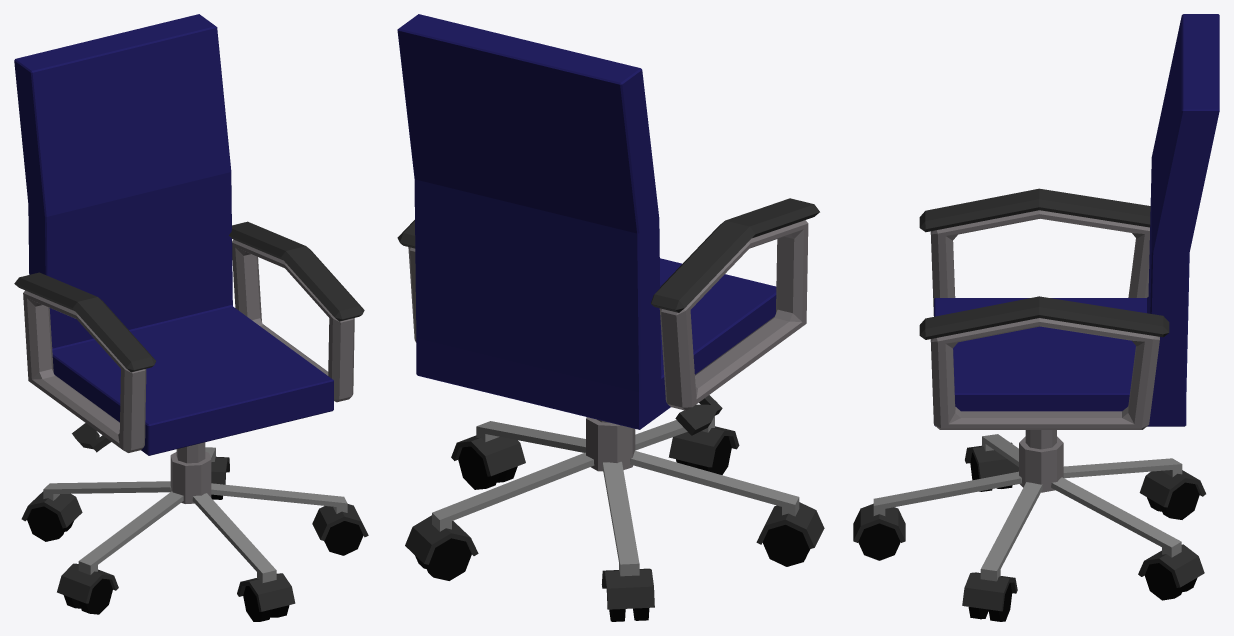
The model's file is OfficeChair.glb.
3 views of the same model, side by side, from view 1: azimuth 30°, elevation 25°; view 2: azimuth 150°, elevation 25°; view 3: azimuth 270°, elevation 25° (orthographic). The views are drawn at different scales.
Parts seen in each view (by area): view 1: Cube.003, Plane.003, Cube.006, Cube.007, Cylinder, Cube.004; view 2: Cube.003, Plane.003, Cube.006, Cube.007, Cylinder, Cube.004; view 3: Cube.003, Plane.003, Cube.006, Cube.007, Cylinder.
Part boxes in pixels (left/top/right/bottom): Cube.003: left=14, top=14, right=333, bottom=455; Plane.003: left=21, top=447, right=368, bottom=621; Cube.006: left=23, top=239, right=354, bottom=452; Cube.007: left=14, top=221, right=364, bottom=372; Cylinder: left=170, top=442, right=211, bottom=503; Cube.004: left=72, top=423, right=111, bottom=452; Cube.003: left=397, top=14, right=776, bottom=429; Plane.003: left=405, top=416, right=824, bottom=621; Cube.006: left=408, top=220, right=808, bottom=410; Cube.007: left=397, top=198, right=819, bottom=312; Cylinder: left=586, top=417, right=635, bottom=471; Cube.004: left=675, top=395, right=722, bottom=435; Cube.003: left=934, top=14, right=1219, bottom=426; Plane.003: left=853, top=434, right=1205, bottom=621; Cube.006: left=930, top=210, right=1159, bottom=429; Cube.007: left=919, top=188, right=1169, bottom=339; Cylinder: left=1019, top=430, right=1063, bottom=492.
Bounding box in the file's own units: 1.04 × 1.53 × 1.03.
